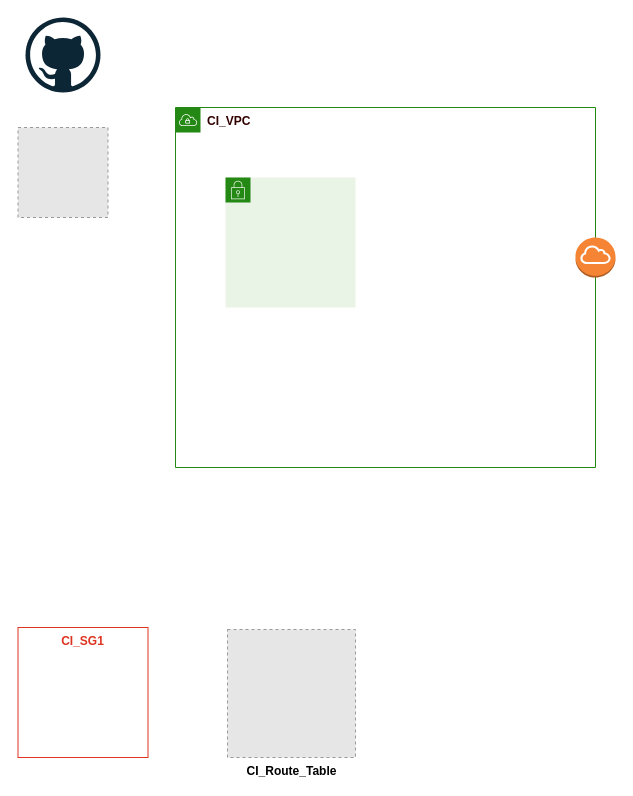
Image size: 633x796. Some labels were removed from this diagram. Grey dashed boxes stand in for pictures. Here are the shapes that lost their labels. From the top down, the centre of each, then its label:
At point 290,242: "CI_Subnet1".
At point 595,257: "CI IGW".
